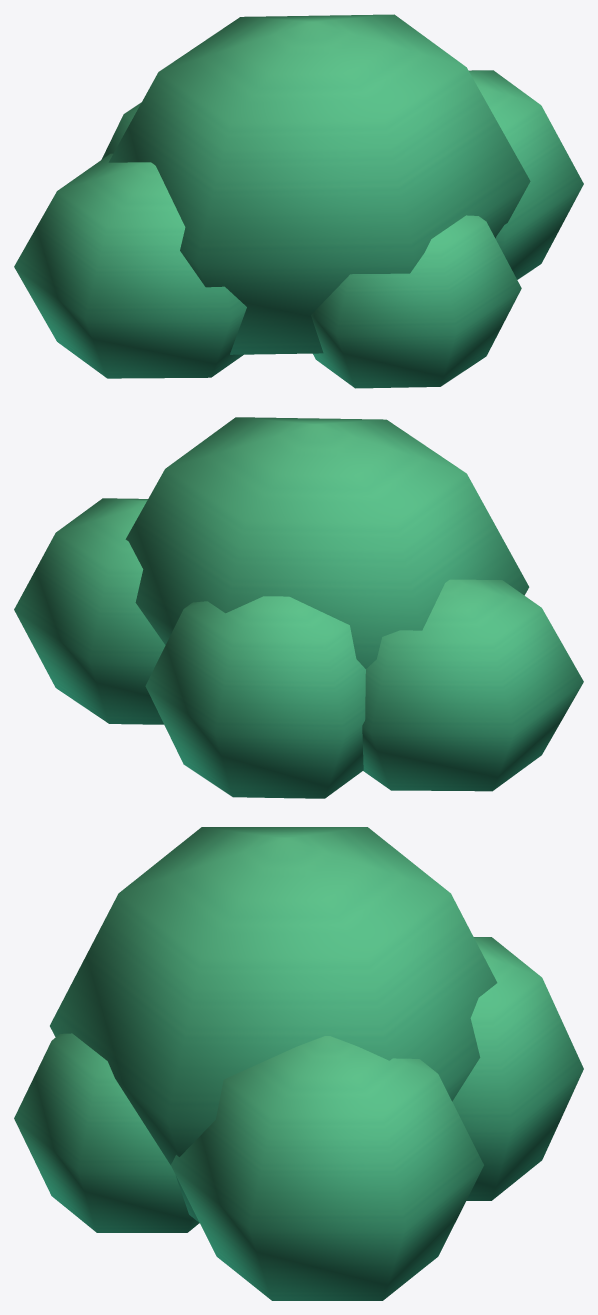
Rendered from bush_B.fbx.
3 views of the same model, one above another, from view 1: azimuth 30°, elevation 25°; view 2: azimuth 150°, elevation 25°; view 3: azimuth 270°, elevation 25° (orthographic). The views are drawn at different scales.
Parts seen in each view (by area): view 1: bush_B; view 2: bush_B; view 3: bush_B.
Part boxes in pixels (bbox=[...]): bush_B: bbox=[14, 14, 583, 388]; bush_B: bbox=[14, 417, 583, 798]; bush_B: bbox=[14, 827, 583, 1300].
Size of the model in its own units: 0.9457 by 0.58 by 0.8.
Materials: 1 (1 with a texture image).
